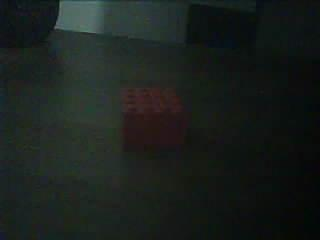lego: (120, 86, 189, 146)
